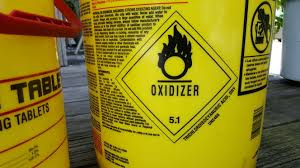Oxidizer: (115, 12, 238, 143)
